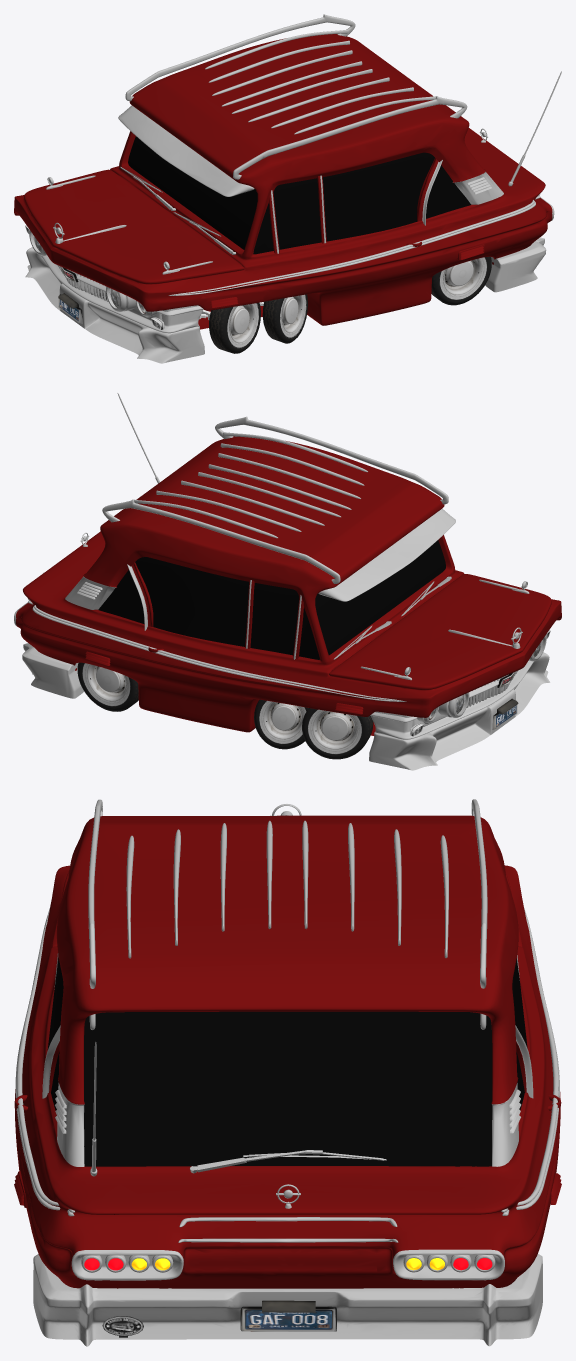
Rendered from car-side2.glb.
3 renders of one model, top to bottom at view 1: azimuth 30°, elevation 25°; view 2: azimuth 150°, elevation 25°; view 3: azimuth 270°, elevation 25°, orthographic. The views are drawn at different scales.
Parts seen in each view (by area): view 1: Object_7, Object_37, Object_49; view 2: Object_7, Object_37, Object_49; view 3: Object_7, Object_49.
Part boxes in pixels (left/top/right/bottom): Object_7: left=14, top=14, right=561, bottom=363; Object_37: left=209, top=256, right=491, bottom=353; Object_49: left=25, top=225, right=164, bottom=329; Object_7: left=14, top=393, right=561, bottom=770; Object_37: left=77, top=662, right=373, bottom=759; Object_49: left=410, top=630, right=550, bottom=736; Object_7: left=14, top=799, right=561, bottom=1346; Object_49: left=102, top=1300, right=336, bottom=1337.
Size of what is drawn, in the model's own units: 4.84 by 2.04 by 2.88.
5 materials, 5 textured.
